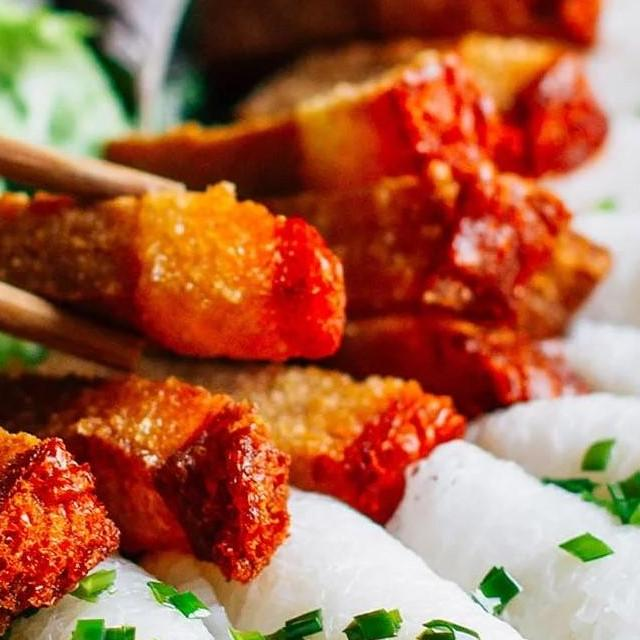banh hoi: (125, 473, 640, 640), (379, 430, 640, 640), (441, 378, 640, 640), (0, 539, 370, 640), (479, 74, 640, 267), (516, 300, 640, 530), (546, 193, 640, 400)
banh hoi heo quay: (0, 0, 640, 640)
thit heo quay: (92, 39, 620, 423), (26, 320, 478, 544), (0, 169, 358, 379), (0, 344, 300, 583), (216, 12, 614, 185), (167, 0, 614, 88), (0, 367, 128, 630)
